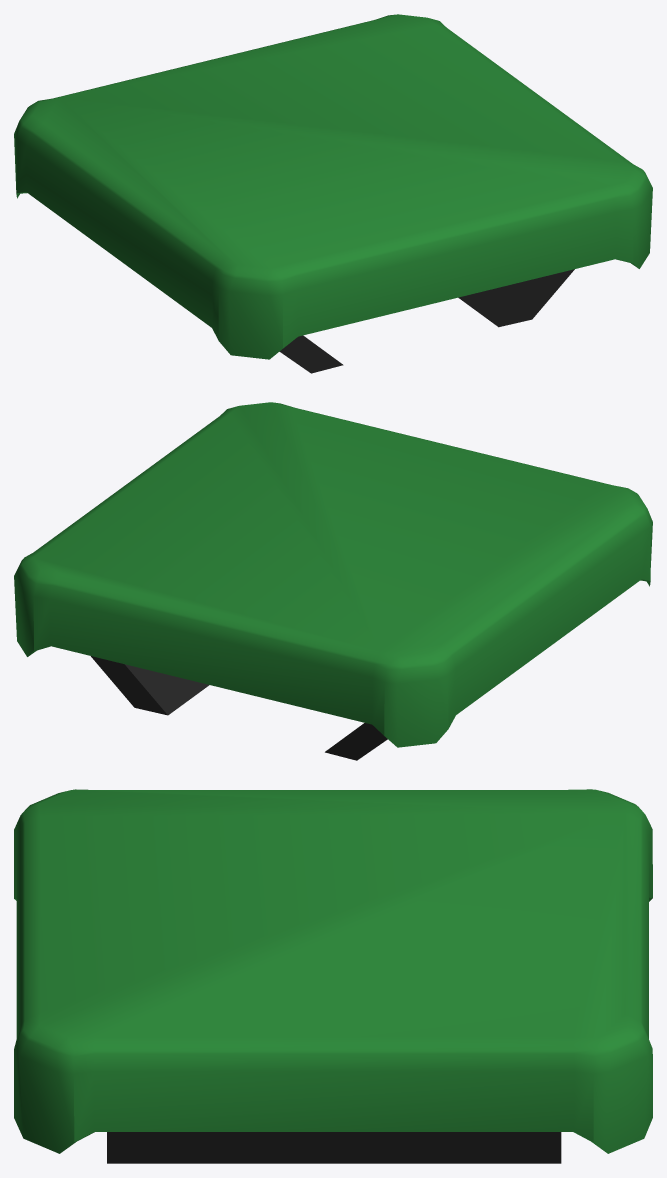
File: Trampoline.fbx
3 renders of one model, top to bottom at view 1: azimuth 30°, elevation 25°; view 2: azimuth 150°, elevation 25°; view 3: azimuth 270°, elevation 25°, orthographic. The views are drawn at different scales.
Visible parts, largest first — view 1: Cube; view 2: Cube; view 3: Cube.
Part boxes in pixels (<box>): Cube: <box>14,14,652,373</box>; Cube: <box>14,402,652,760</box>; Cube: <box>14,789,652,1163</box>.
Bounding box in the file's own units: 296 × 296 × 92.05.
